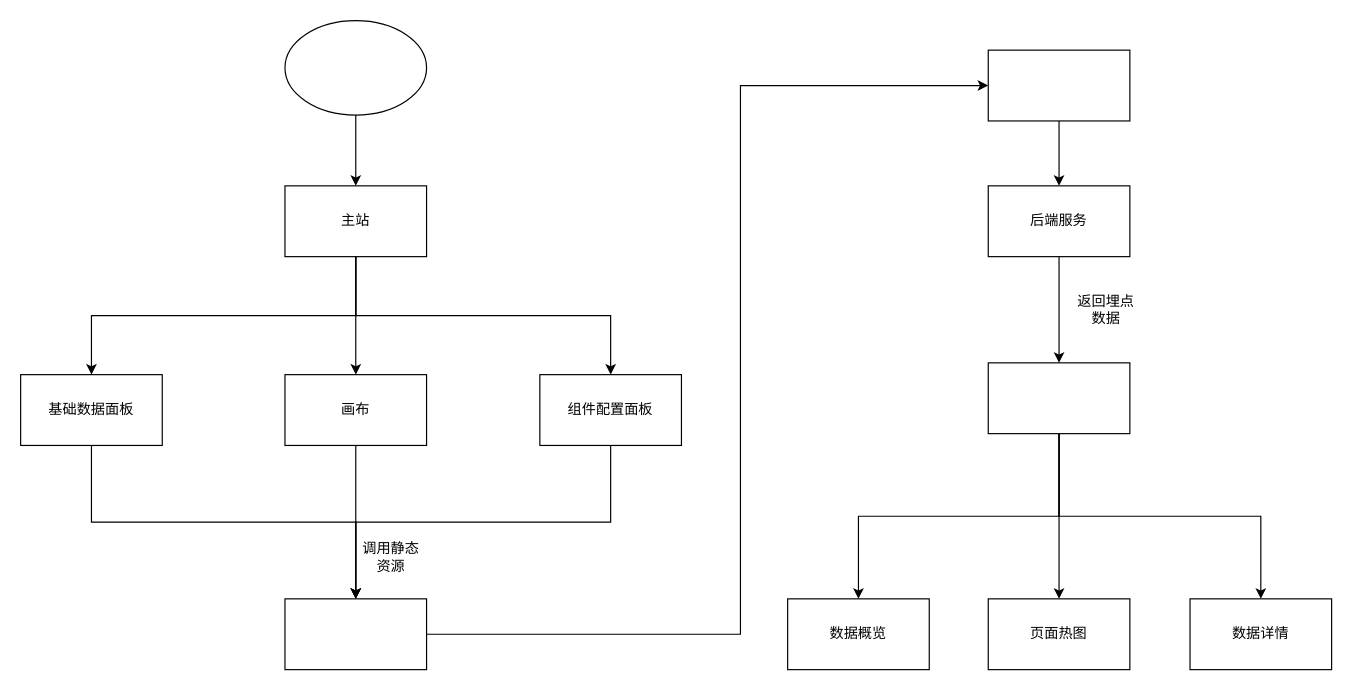
Image size: 1352x690. Some labels were removed from this diagram. The shapes that lost their labels are listed below. From the top down, each one's box as (x1, y1, x2, y2) in pixels, then its label:
(284, 19, 427, 115): 开始
(987, 49, 1130, 121): 数据埋点上报
(987, 362, 1130, 434): 数据可视化界面
(284, 598, 427, 670): 落地页
